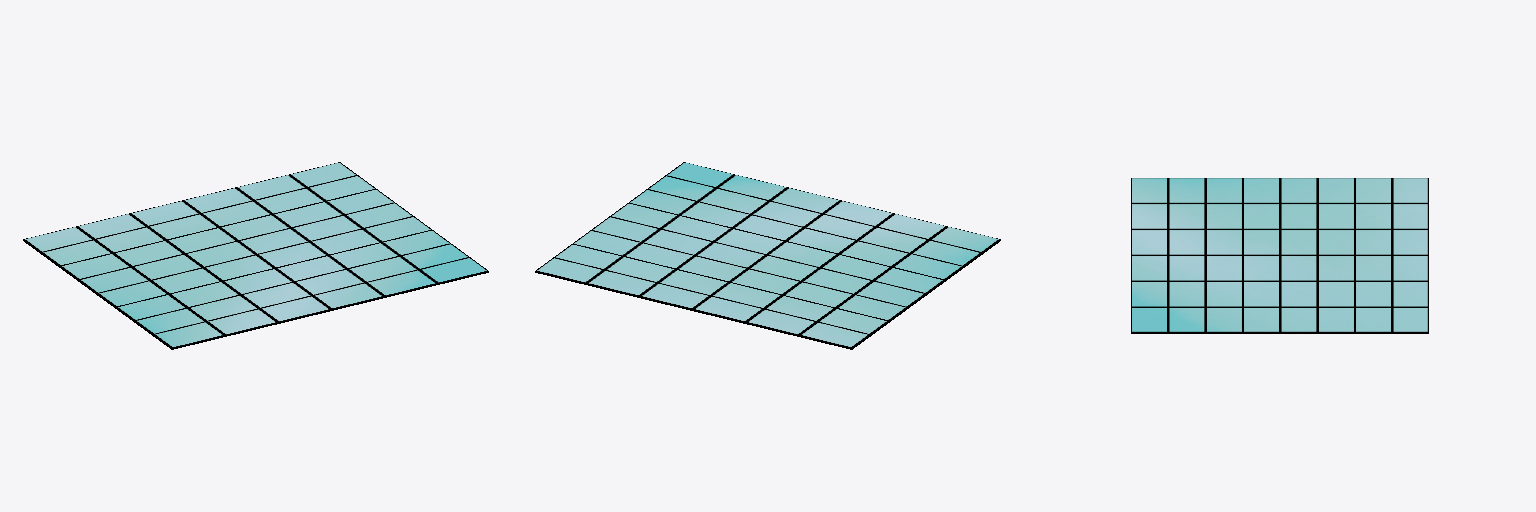
3 renders of one model, left to right at view 1: azimuth 30°, elevation 25°; view 2: azimuth 150°, elevation 25°; view 3: azimuth 270°, elevation 25°, orthographic.
Visible parts, largest first — view 1: pCube1; view 2: pCube1; view 3: pCube1.
Boxes of the visible parts, box(x1,y1,x2,y2) form: pCube1: box(23, 162, 488, 349); pCube1: box(535, 162, 1000, 349); pCube1: box(1131, 178, 1428, 333).
Bounding box in the file's own units: 160 × 1 × 130.
1 materials, 1 textured.